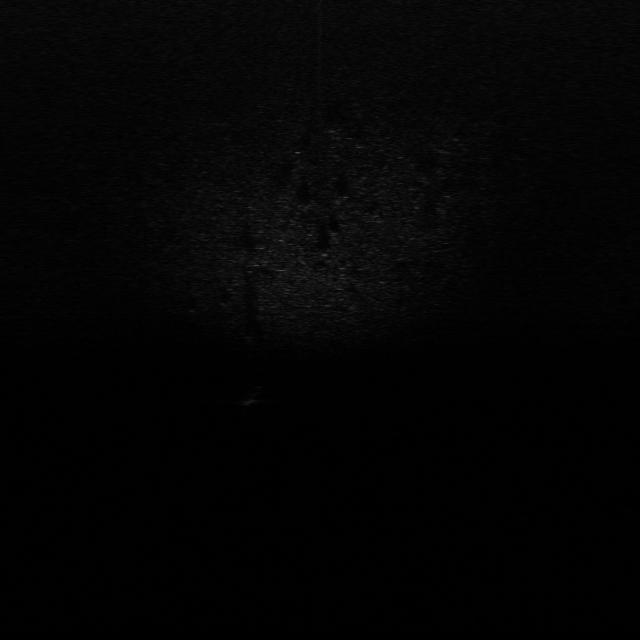human body: (238, 382, 263, 420)
